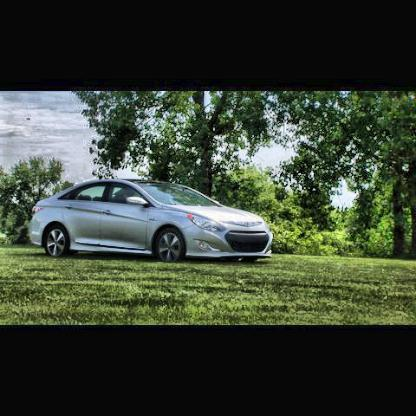Hyundai Sonata Hybrid Sedan 2012: (32, 180, 274, 264)
